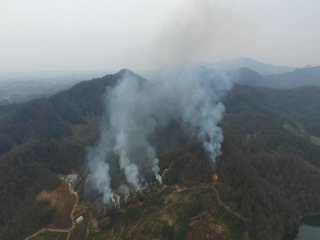smoke: (80, 5, 233, 206)
